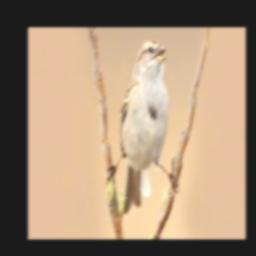Sparrow: (107, 40, 179, 213)
